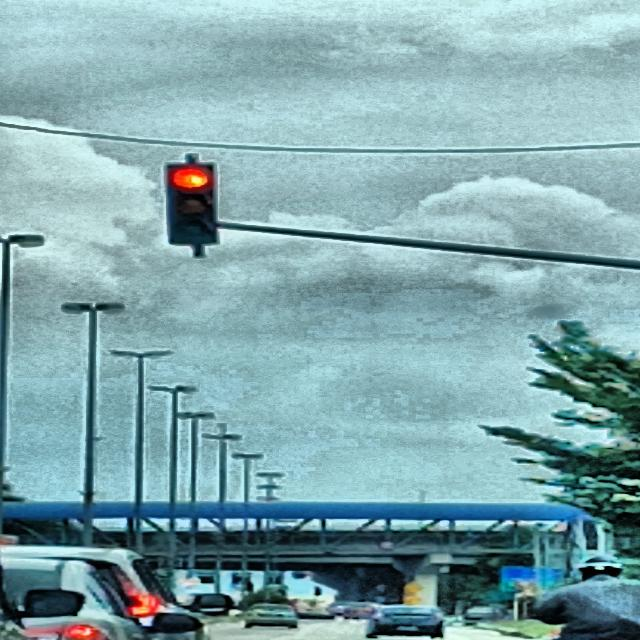red: (167, 164, 218, 245)
